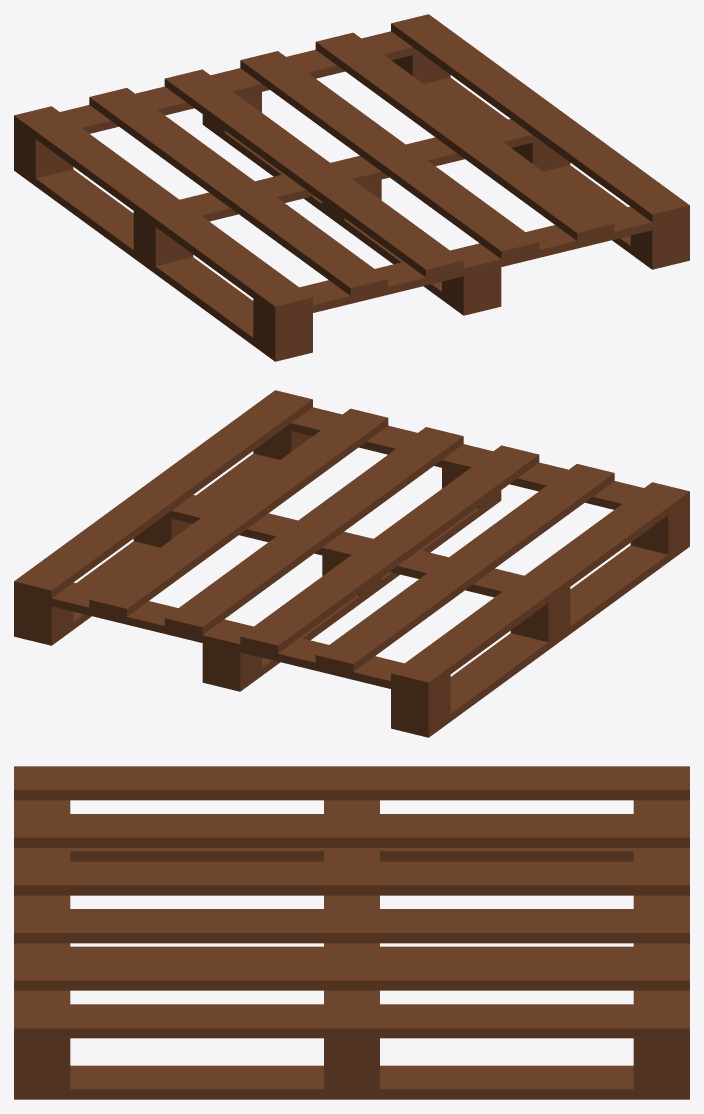
File: pallet.obj
The picture shows the model from 3 angles, top to bottom: view 1: azimuth 30°, elevation 25°; view 2: azimuth 150°, elevation 25°; view 3: azimuth 270°, elevation 25°; orthographic projection. The views are drawn at different scales.
Parts seen in each view (by area): view 1: Pallet_01_Mesh.005; view 2: Pallet_01_Mesh.005; view 3: Pallet_01_Mesh.005.
Boxes of the visible parts, box(x1,y1,x2,y2) form: Pallet_01_Mesh.005: box(14, 14, 689, 361); Pallet_01_Mesh.005: box(14, 390, 689, 737); Pallet_01_Mesh.005: box(14, 766, 689, 1099).
Size of the model in its own units: 1.32 by 0.168 by 1.44.
